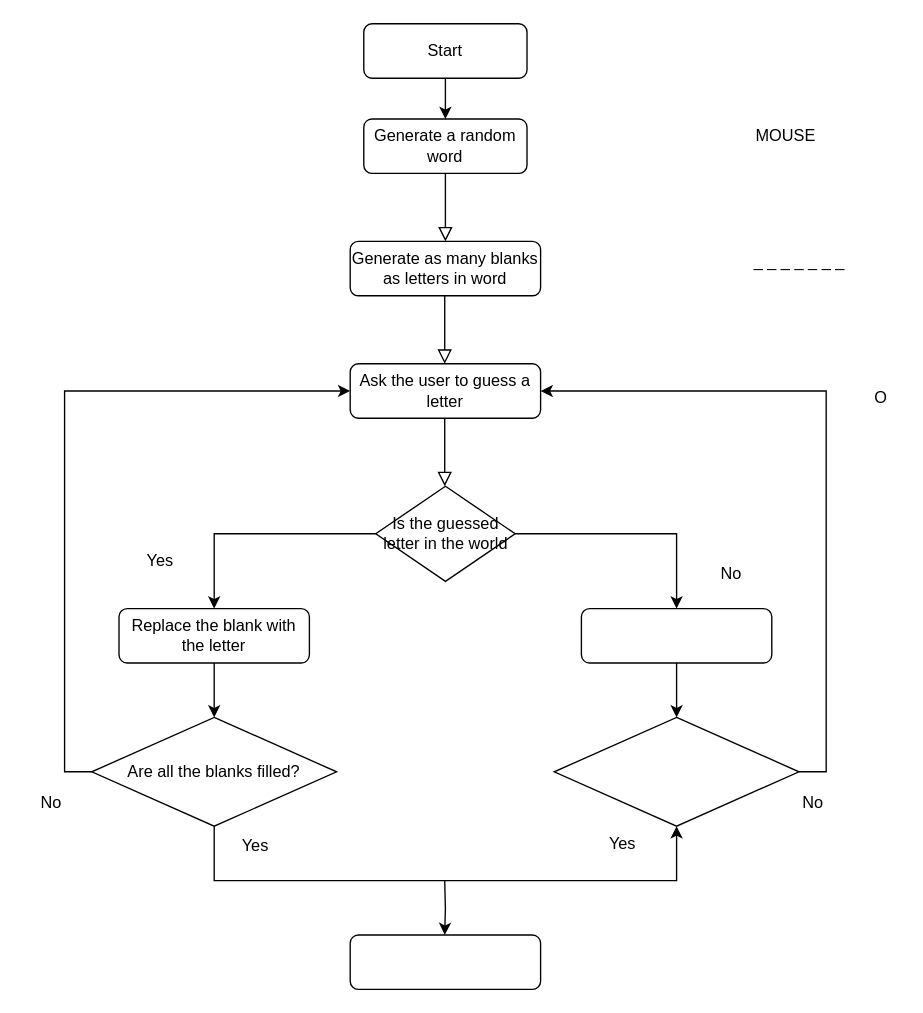
Image size: 923x1013. Some labels were removed from this diagram. The shapes that lost their labels are listed below. From the top down, each one's centre as x and y in pixels, then its label:
(x=676, y=635): Lose a life
(x=676, y=771): Have they run out of lives?
(x=445, y=961): Game Over
